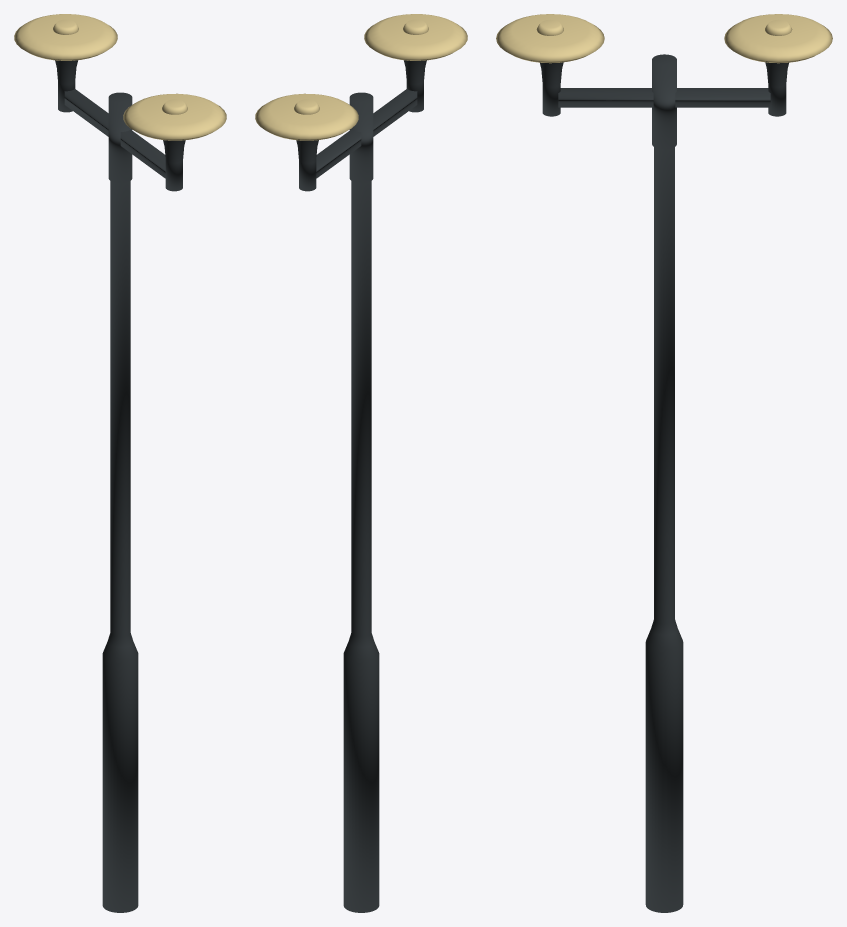
The model's file is StreetLamp.fbx.
3 renders of one model, left to right at view 1: azimuth 30°, elevation 25°; view 2: azimuth 150°, elevation 25°; view 3: azimuth 270°, elevation 25°, orthographic. The views are drawn at different scales.
Visible parts, largest first — view 1: 柱体.001; view 2: 柱体.001; view 3: 柱体.001.
Boxes of the visible parts, x1,y1,x2,y2 form: 柱体.001: (14, 14, 226, 912); 柱体.001: (255, 14, 467, 912); 柱体.001: (496, 14, 832, 912).
Bounding box in the file's own units: 30.94 × 277 × 95.86.
